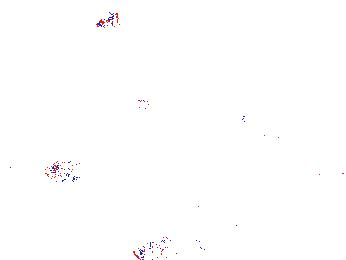X-ray fish: (132, 236, 194, 260), (42, 161, 87, 182), (121, 98, 151, 119)
red belly glassfish: (96, 11, 121, 30), (61, 109, 78, 131)
redtail glassfish: (238, 111, 309, 146), (276, 163, 346, 191)
